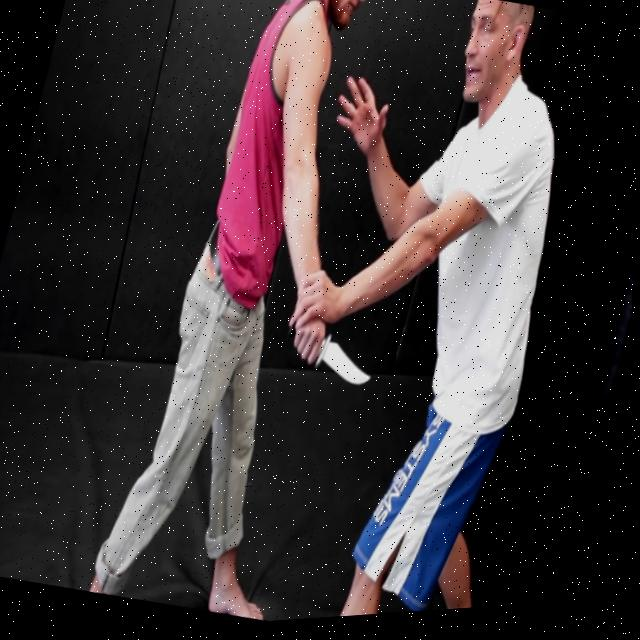knife: (313, 335, 382, 411)
